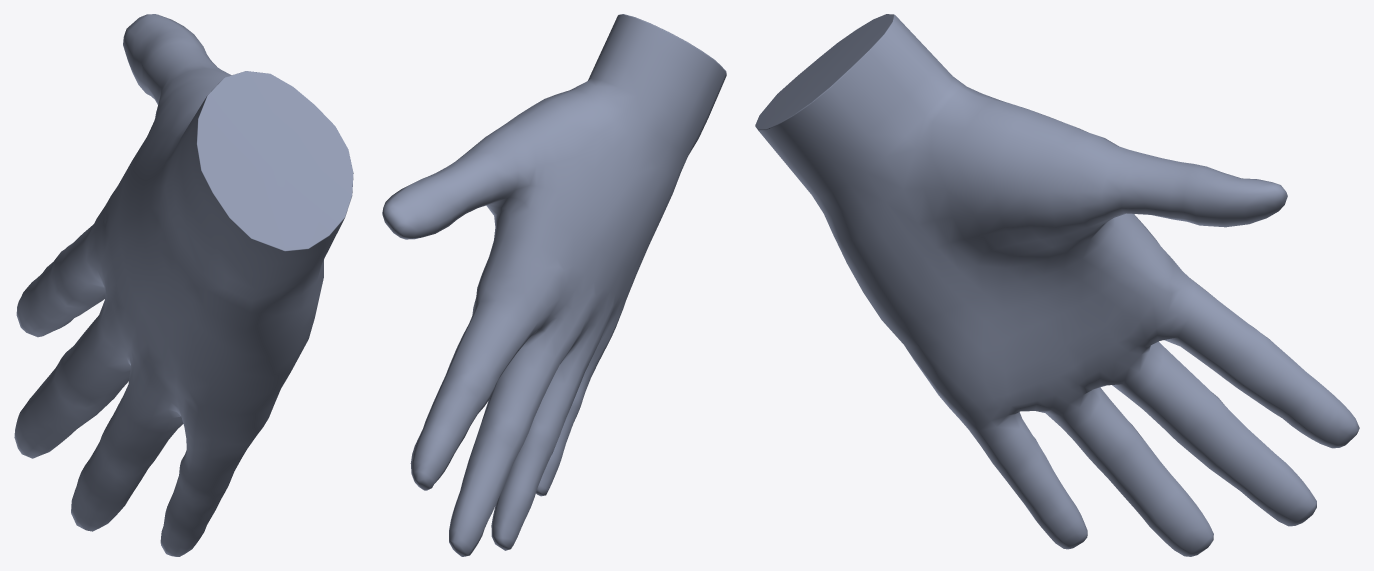
Rendered from pico_hand_left.obj.
3 renders of one model, left to right at view 1: azimuth 30°, elevation 25°; view 2: azimuth 150°, elevation 25°; view 3: azimuth 270°, elevation 25°, orthographic. The views are drawn at different scales.
Parts seen in each view (by area): view 1: pico_hand_left; view 2: pico_hand_left; view 3: pico_hand_left.
Part boxes in pixels (x1,y1,x2,y2): pico_hand_left: (14, 14, 353, 556); pico_hand_left: (382, 14, 726, 556); pico_hand_left: (755, 14, 1359, 556).
Bounding box in the file's own units: 0.0651 × 0.1757 × 0.181.
1 material, 1 textured.
